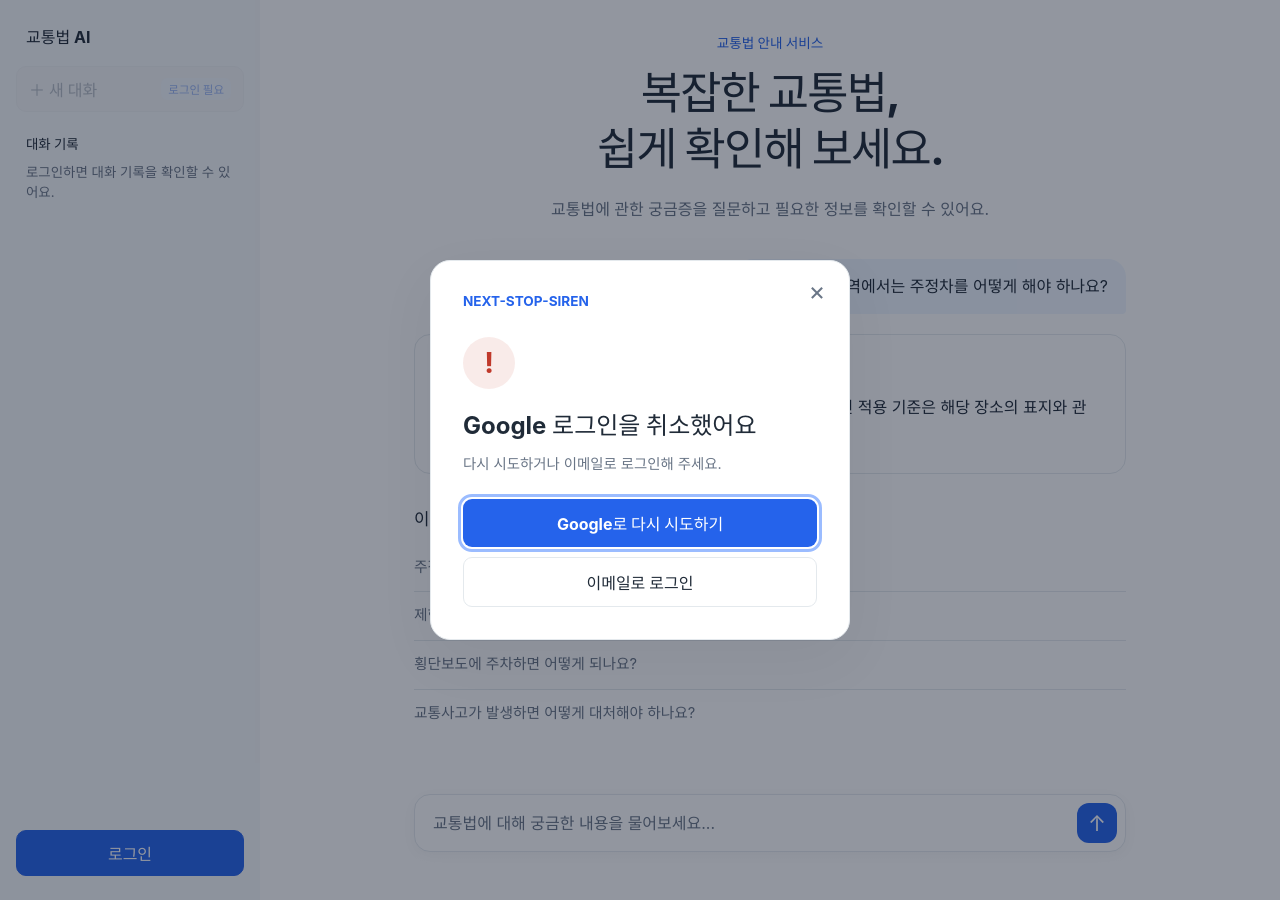
Test: 이메일로 로그인을 고르면 로그인 폼으로 넘어가 이메일 입력에 초점이 간다
The image size is (1280, 900).
Expected: the dialog "Google 로그인을 취소했어요" is shown, [430, 260, 850, 640]
Click the button "이메일로 로그인" at (640, 582), box [463, 557, 817, 607]
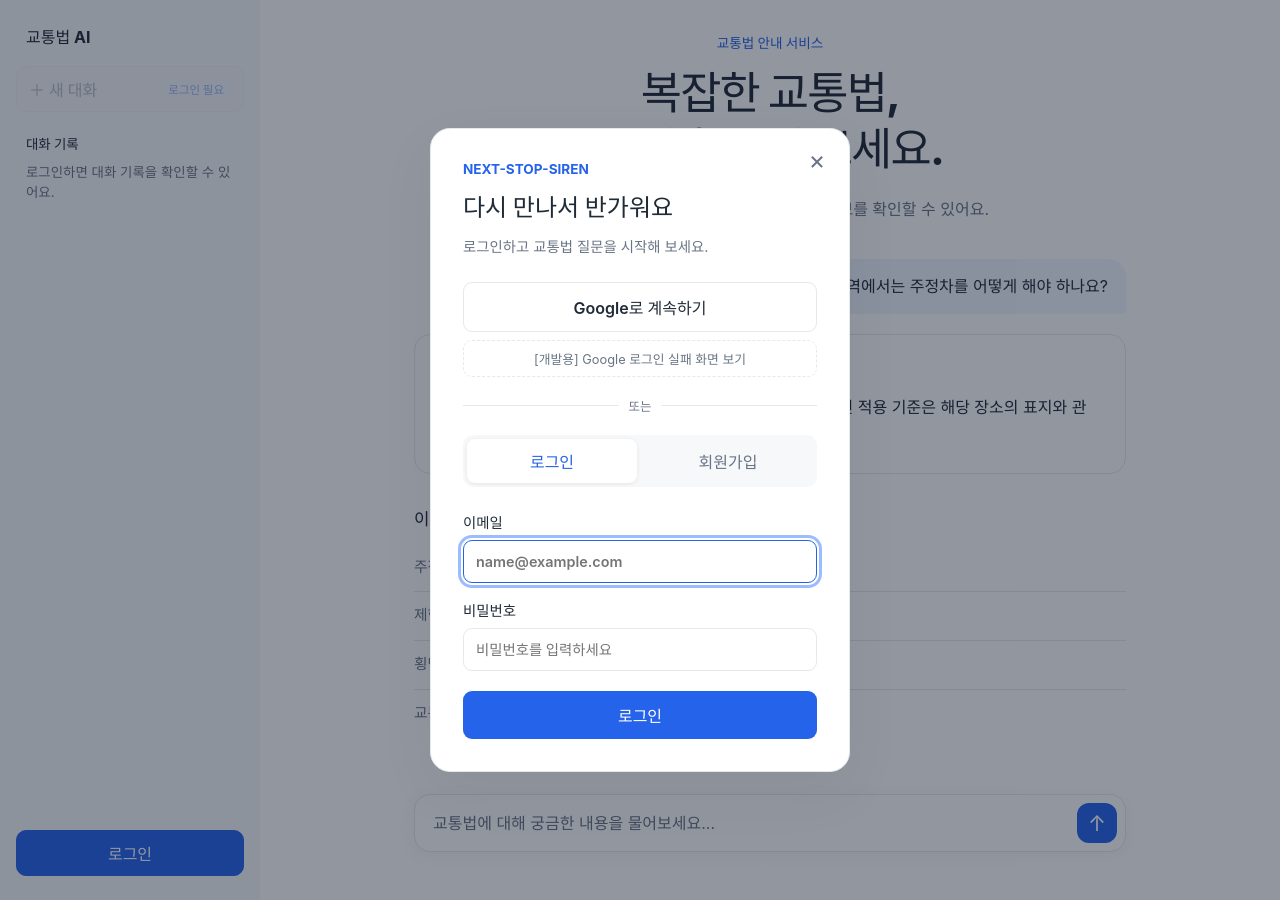
Result: the dialog "다시 만나서 반가워요" is shown at [430, 128, 850, 772]
